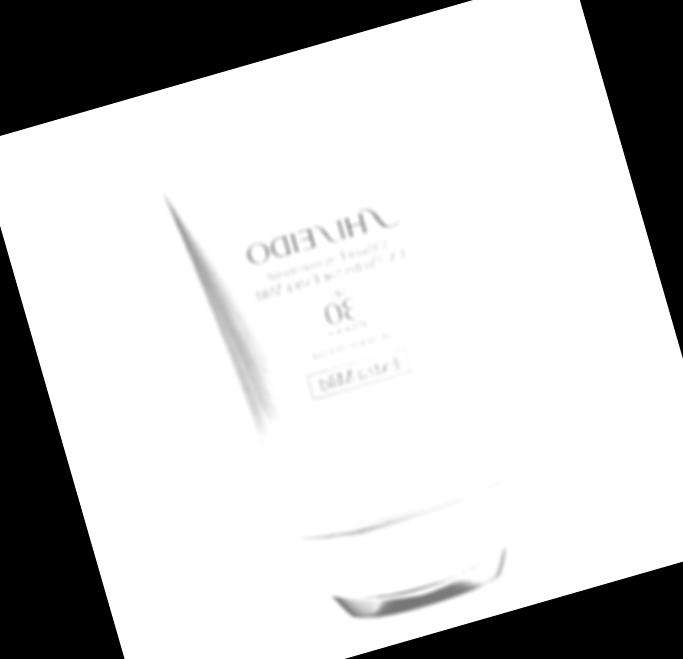cosmetic: (149, 85, 565, 650)
